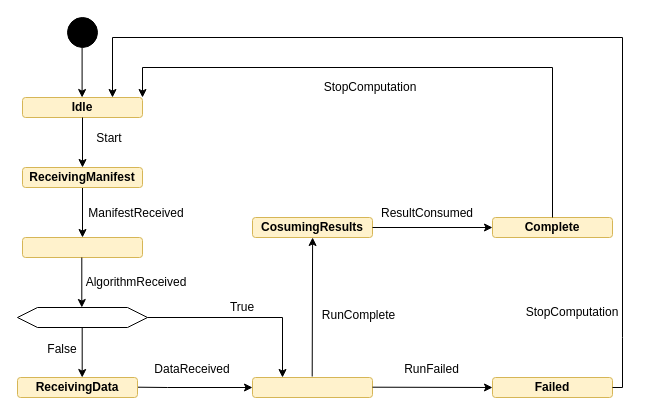
This 648x415 diagram has some shape labels left out. The centre of each missing label's shape, as x and y in pixels:
"len(datasets) == 0" goes at (x=82, y=317).
"ReceivingAlgorithm" goes at (x=82, y=247).
"Running" goes at (x=312, y=387).
